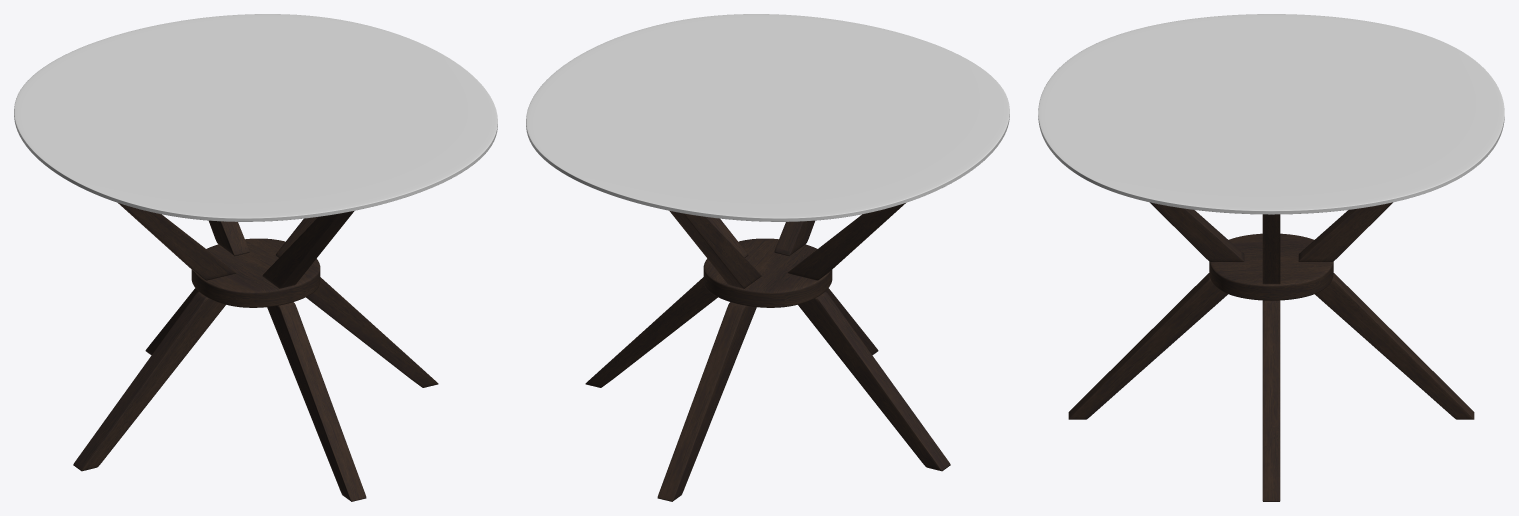
3 renders of one model, left to right at view 1: azimuth 30°, elevation 25°; view 2: azimuth 150°, elevation 25°; view 3: azimuth 270°, elevation 25°, orthographic.
Visible parts, largest first — view 1: Table_Top, Table_Legs_Leg_Proper, Table_Legs_Block; view 2: Table_Top, Table_Legs_Leg_Proper, Table_Legs_Block; view 3: Table_Top, Table_Legs_Leg_Proper, Table_Legs_Block.
Part boxes in pixels (<box>): Table_Top: <box>14,14,497,221</box>; Table_Legs_Leg_Proper: <box>73,203,438,501</box>; Table_Legs_Block: <box>191,238,320,307</box>; Table_Top: <box>526,14,1009,221</box>; Table_Legs_Leg_Proper: <box>585,203,950,501</box>; Table_Legs_Block: <box>703,238,832,307</box>; Table_Top: <box>1038,14,1504,214</box>; Table_Legs_Leg_Proper: <box>1068,202,1474,501</box>; Table_Legs_Block: <box>1209,233,1333,300</box>.
Bounding box in the file's own units: 2.87 × 2.07 × 2.87.
